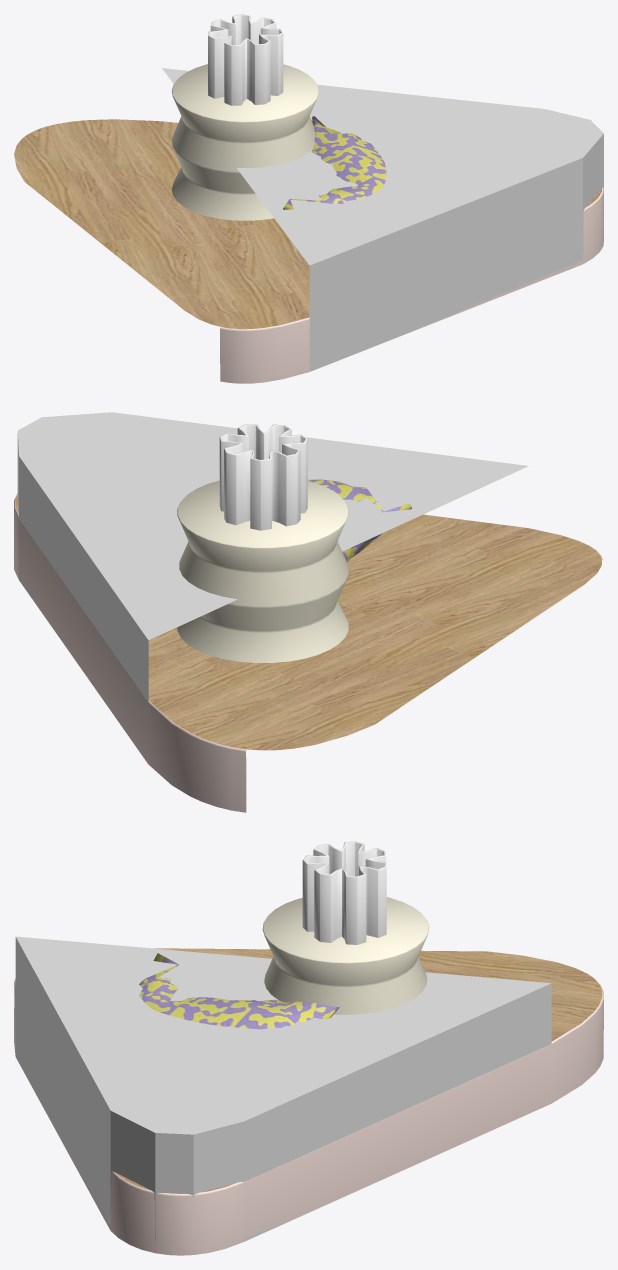
The model's file is kitchenLab-transformed.glb.
The picture shows the model from 3 angles, top to bottom: view 1: azimuth 30°, elevation 25°; view 2: azimuth 150°, elevation 25°; view 3: azimuth 270°, elevation 25°; orthographic projection. The views are drawn at different scales.
Visible parts, largest first — view 1: kitchenLabIntersection, kitchenLabFloor, kitchenLabTable, kitchenLabBase, kitchenLabVase, kitchenLabPillow; view 2: kitchenLabFloor, kitchenLabIntersection, kitchenLabTable, kitchenLabBase, kitchenLabVase, kitchenLabPillow; view 3: kitchenLabIntersection, kitchenLabBase, kitchenLabTable, kitchenLabVase, kitchenLabFloor, kitchenLabPillow.
Part boxes in pixels (x1,y1,x2,y2): kitchenLabIntersection: (162, 68, 603, 371); kitchenLabFloor: (14, 119, 601, 329); kitchenLabTable: (171, 64, 319, 220); kitchenLabBase: (39, 119, 603, 383); kitchenLabVase: (208, 14, 283, 105); kitchenLabPillow: (283, 116, 386, 209); kitchenLabFloor: (15, 495, 601, 750); kitchenLabIntersection: (17, 412, 528, 702); kitchenLabTable: (177, 480, 348, 662); kitchenLabBase: (14, 494, 603, 812); kitchenLabVase: (219, 424, 307, 530); kitchenLabPillow: (307, 479, 412, 562); kitchenLabIntersection: (15, 936, 551, 1241); kitchenLabBase: (14, 978, 603, 1255); kitchenLabTable: (262, 897, 429, 1014); kitchenLabVase: (302, 841, 386, 944); kitchenLabFloor: (116, 948, 602, 1193); kitchenLabPillow: (139, 953, 339, 1029).
Bounding box in the file's own units: 53.72 × 24.63 × 54.29.
Materials: 5 (2 with a texture image).
